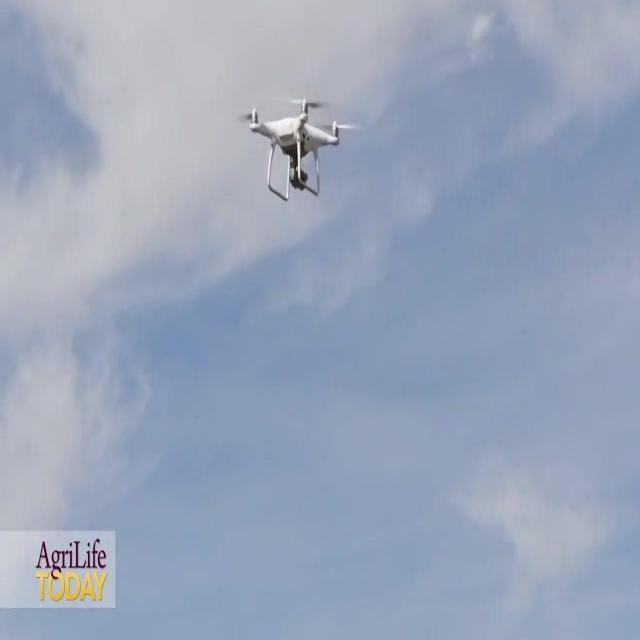UAV: (237, 98, 360, 202)
